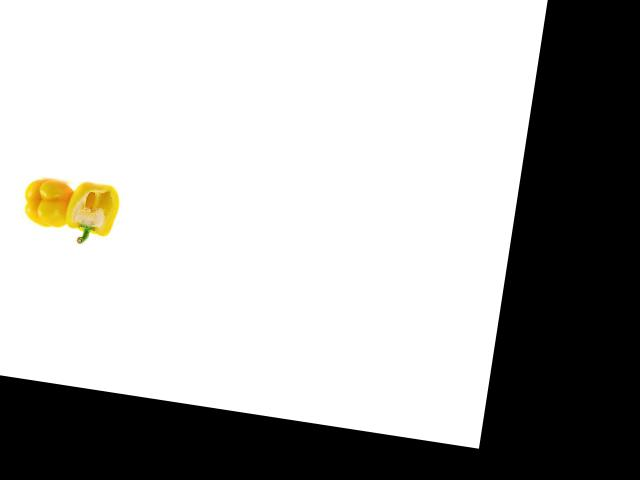bell_pepper: (52, 166, 126, 250)
